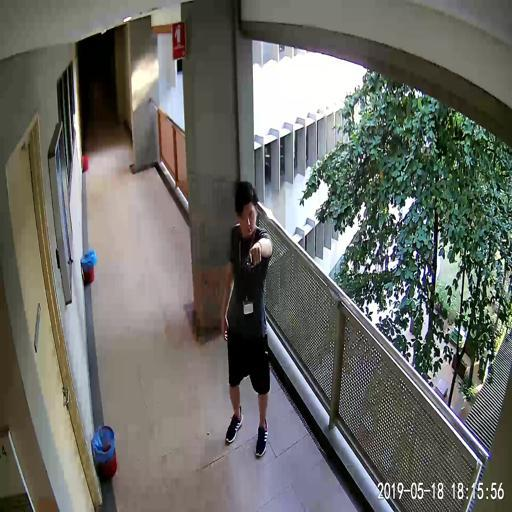Handgun: (241, 245, 260, 270)
